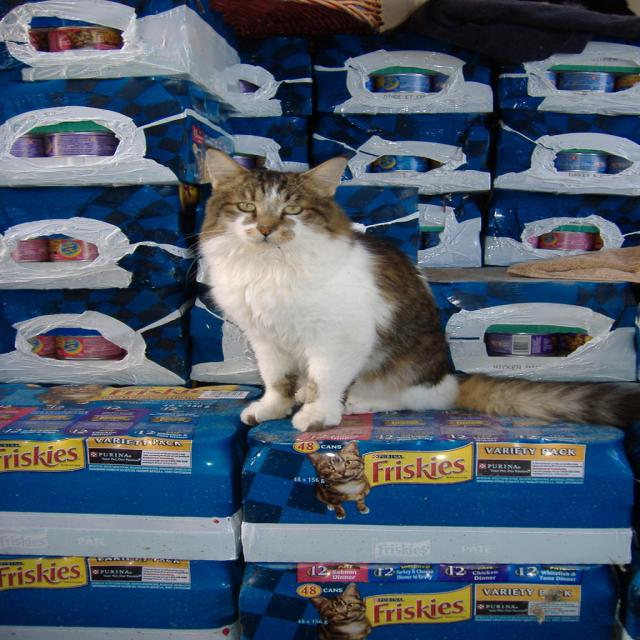Cat: (174, 144, 638, 432)
